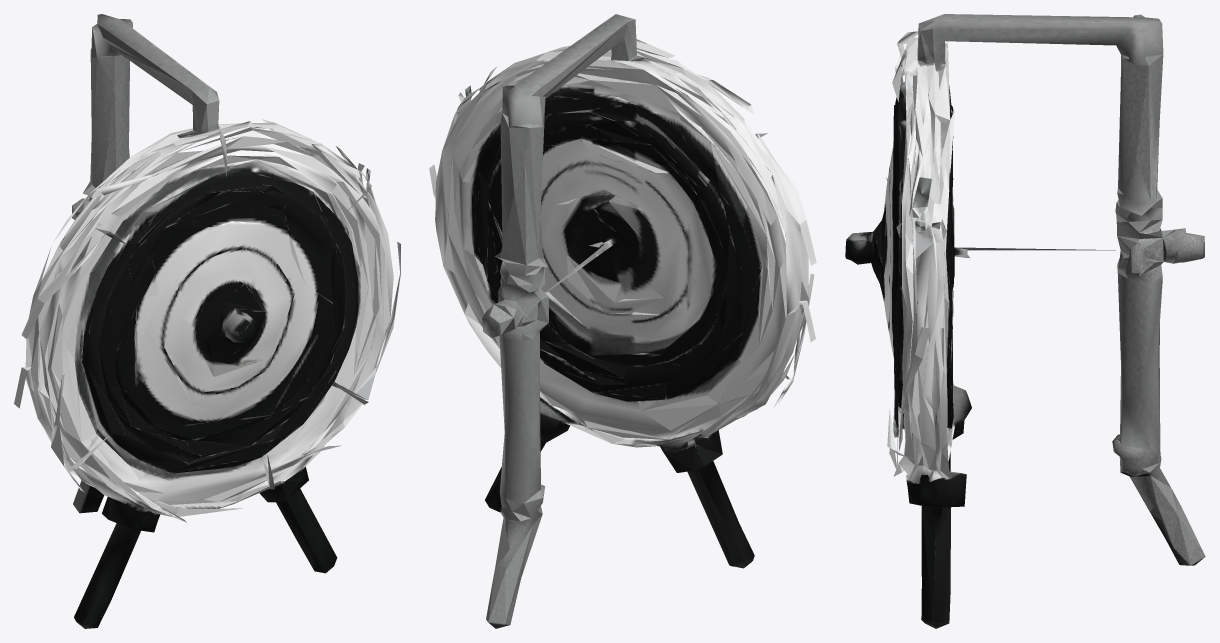
The model's file is Cible.fbx.
3 renders of one model, left to right at view 1: azimuth 30°, elevation 25°; view 2: azimuth 150°, elevation 25°; view 3: azimuth 270°, elevation 25°, orthographic. The views are drawn at different scales.
Parts seen in each view (by area): view 1: Mesh_0; view 2: Mesh_0; view 3: Mesh_0.
Boxes of the visible parts, <box> form: Mesh_0: <box>14,14,400,628</box>; Mesh_0: <box>429,14,816,628</box>; Mesh_0: <box>845,14,1205,628</box>.
Size of the model in its own units: 147 by 190 by 113.
Materials: 1 (1 with a texture image).
